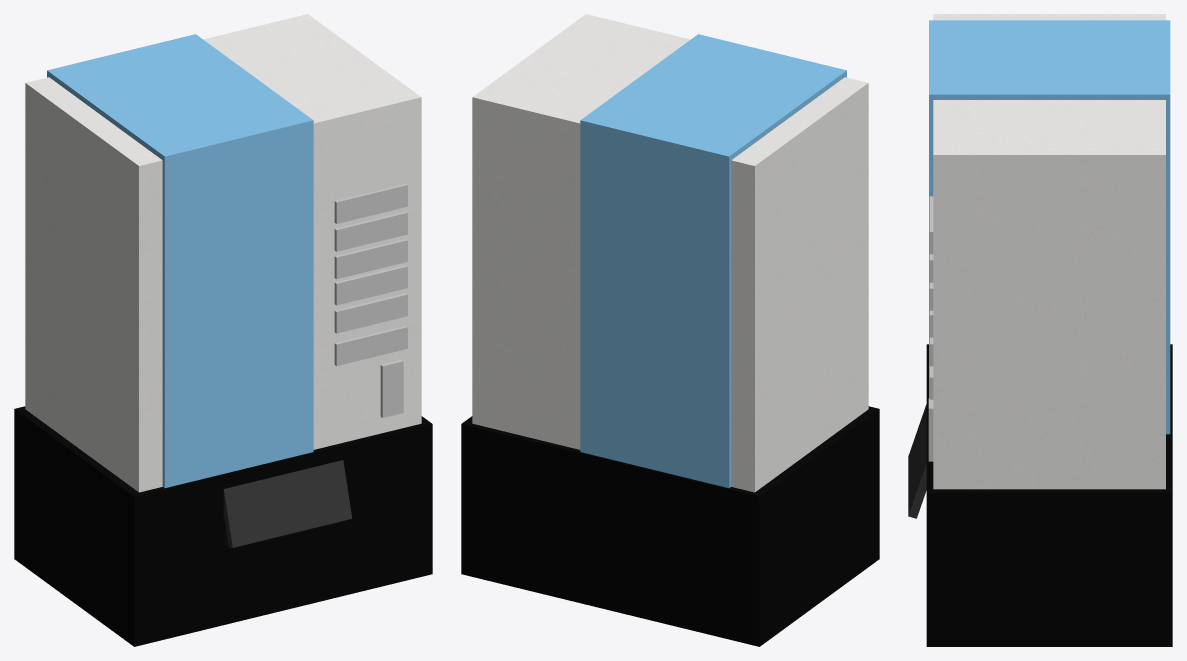
The model's file is VendingMachine.fbx.
3 renders of one model, left to right at view 1: azimuth 30°, elevation 25°; view 2: azimuth 150°, elevation 25°; view 3: azimuth 270°, elevation 25°, orthographic. The views are drawn at different scales.
Visible parts, largest first — view 1: Cube, Cube.009, Cube.004, Cube.001, Cube.008; view 2: Cube, Cube.009, Cube.004; view 3: Cube, Cube.004, Cube.009, Cube.008, Cube.001.
Part boxes in pixels (x1,y1,x2,y2): Cube: (25,14,421,492); Cube.009: (47,34,313,487); Cube.004: (14,406,432,646); Cube.001: (334,184,407,417); Cube.008: (223,460,352,547); Cube: (472,14,868,492); Cube.009: (580,34,846,487); Cube.004: (461,406,879,646); Cube: (933,14,1165,489); Cube.004: (926,344,1172,646); Cube.009: (929,20,1170,434); Cube.008: (908,404,926,518); Cube.001: (928,196,933,461).
Bounding box in the file's own units: 1068 × 1647 × 800.
